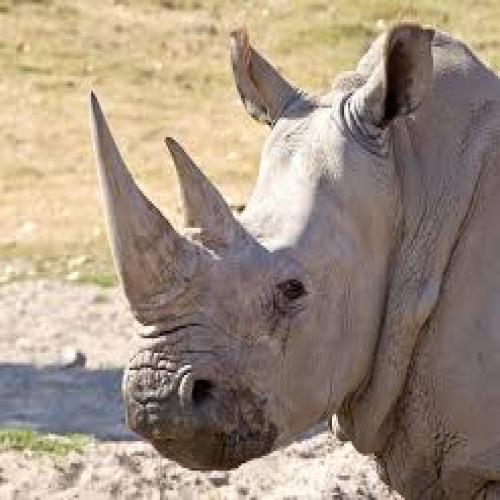rhino-endangered: (89, 20, 500, 500)
